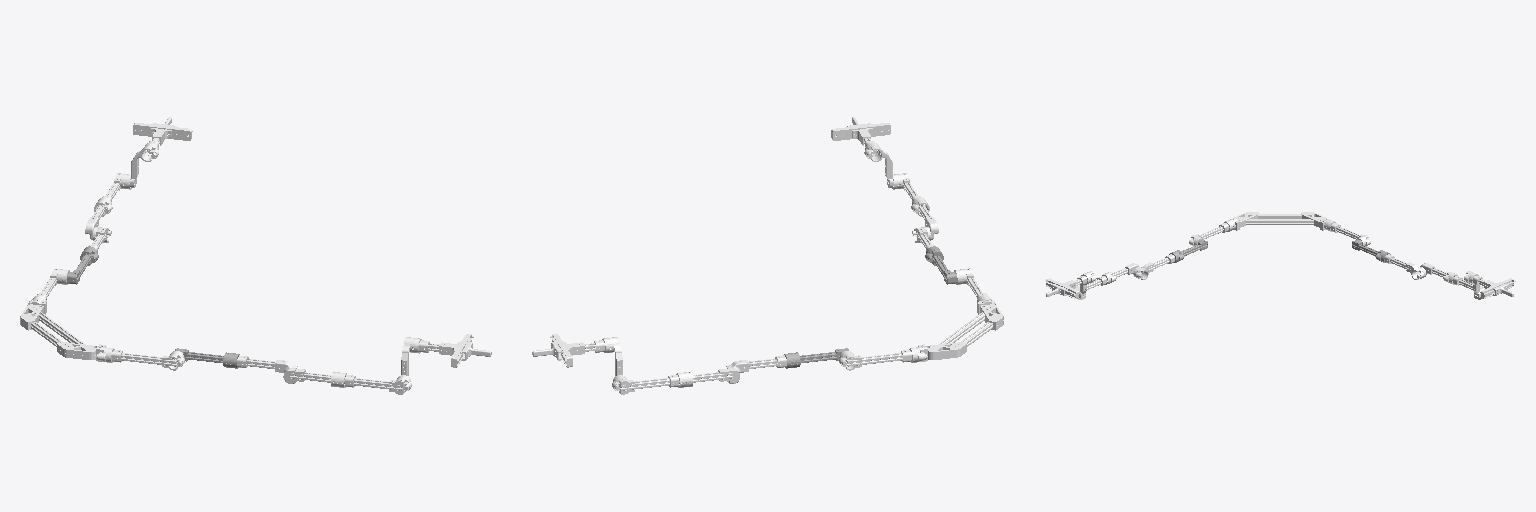
robot.urdf — airexo_stl:
<robot
  name="airexo_stl">
  <link
    name="base_link">
    <inertial>
      <origin
        xyz="0.0452487076550272 4.08159289662447E-05 2.92854896249222E-15"
        rpy="0 0 0" />
      <mass
        value="0.520332798539441" />
      <inertia
        ixx="0.00183677436681144"
        ixy="5.04249301412316E-21"
        ixz="-1.53050085454359E-18"
        iyy="0.000468584337523373"
        iyz="-3.72686805178163E-08"
        izz="0.0022412161142748" />
    </inertial>
    <visual>
      <origin
        xyz="0 0 0"
        rpy="0 0 0" />
      <geometry>
        <mesh
          filename="meshes/base_link.obj" />
      </geometry>
      <material
        name="">
        <color
          rgba="1 1 1 1" />
      </material>
    </visual>
    <collision>
      <origin
        xyz="0 0 0"
        rpy="0 0 0" />
      <geometry>
        <mesh
          filename="meshes/base_link.obj" />
      </geometry>
    </collision>
  </link>
  <link
    name="L1">
    <inertial>
      <origin
        xyz="-0.0063963952709717 -1.5515452953394E-09 -0.116903714213069"
        rpy="0 0 0" />
      <mass
        value="0.098087234411131" />
      <inertia
        ixx="0.000159372788158293"
        ixy="-3.72743176764314E-12"
        ixz="-3.43716909947373E-06"
        iyy="0.000157819875944741"
        iyz="-7.27737995086022E-12"
        izz="2.65259724028253E-05" />
    </inertial>
    <visual>
      <origin
        xyz="0 0 0"
        rpy="0 0 0" />
      <geometry>
        <mesh
          filename="meshes/L1.obj" />
      </geometry>
      <material
        name="">
        <color
          rgba="1 1 1 1" />
      </material>
    </visual>
    <collision>
      <origin
        xyz="0 0 0"
        rpy="0 0 0" />
      <geometry>
        <mesh
          filename="meshes/L1.obj" />
      </geometry>
    </collision>
  </link>
  <joint
    name="left_joint1"
    type="revolute">
    <origin
      xyz="0.109601551083906 0.244601551083923 0"
      rpy="-1.57079632679489 0 2.35619449019234" />
    <parent
      link="base_link" />
    <child
      link="L1" />
    <axis
      xyz="0 0 1" />
    <limit
      lower="0"
      upper="0"
      effort="0"
      velocity="0" />
  </joint>
  <link
    name="L2">
    <inertial>
      <origin
        xyz="0.0865759590055979 -2.81216608428411E-09 0.0186186838773504"
        rpy="0 0 0" />
      <mass
        value="0.0934596545824907" />
      <inertia
        ixx="2.5090582636752E-05"
        ixy="4.71786034627682E-12"
        ixz="-2.0777225944809E-06"
        iyy="0.000115618934339504"
        iyz="9.31258053615557E-12"
        izz="0.000117051629081509" />
    </inertial>
    <visual>
      <origin
        xyz="0 0 0"
        rpy="0 0 0" />
      <geometry>
        <mesh
          filename="meshes/L2.obj" />
      </geometry>
      <material
        name="">
        <color
          rgba="0.752941176470588 0.752941176470588 0.752941176470588 1" />
      </material>
    </visual>
    <collision>
      <origin
        xyz="0 0 0"
        rpy="0 0 0" />
      <geometry>
        <mesh
          filename="meshes/L2.obj" />
      </geometry>
    </collision>
  </link>
  <joint
    name="left_joint2"
    type="revolute">
    <origin
      xyz="-0.042 0 -0.21"
      rpy="3.1416 1.5708 0" />
    <parent
      link="L1" />
    <child
      link="L2" />
    <axis
      xyz="0 0 -1" />
    <limit
      lower="0"
      upper="0"
      effort="0"
      velocity="0" />
  </joint>
  <link
    name="L3">
    <inertial>
      <origin
        xyz="-0.00582933974923661 -0.00508234737073888 -0.110695451040566"
        rpy="0 0 0" />
      <mass
        value="0.109024564590523" />
      <inertia
        ixx="0.000109039968694576"
        ixy="-3.25831705939487E-06"
        ixz="-6.27816005953874E-06"
        iyy="9.99608985448683E-05"
        iyz="-8.47081934482583E-06"
        izz="3.42505422951305E-05" />
    </inertial>
    <visual>
      <origin
        xyz="0 0 0"
        rpy="0 0 0" />
      <geometry>
        <mesh
          filename="meshes/L3.obj" />
      </geometry>
      <material
        name="">
        <color
          rgba="1 1 1 1" />
      </material>
    </visual>
    <collision>
      <origin
        xyz="0 0 0"
        rpy="0 0 0" />
      <geometry>
        <mesh
          filename="meshes/L3.obj" />
      </geometry>
    </collision>
  </link>
  <joint
    name="left_joint3"
    type="revolute">
    <origin
      xyz="0.205000000000001 0 0.022999999999999"
      rpy="0 -1.57 0" />
    <parent
      link="L2" />
    <child
      link="L3" />
    <axis
      xyz="0 0 1" />
    <limit
      lower="0"
      upper="0"
      effort="0"
      velocity="0" />
  </joint>
  <link
    name="L4">
    <inertial>
      <origin
        xyz="-0.073172160273328 -0.017268843967896 -0.0151104097470313"
        rpy="0 0 0" />
      <mass
        value="0.110593093369985" />
      <inertia
        ixx="3.1883465683027E-05"
        ixy="-3.67151839013352E-06"
        ixz="9.31651103968059E-07"
        iyy="0.000104042250565711"
        iyz="-1.99286866179457E-06"
        izz="0.000112444733749653" />
    </inertial>
    <visual>
      <origin
        xyz="0 0 0"
        rpy="0 0 0" />
      <geometry>
        <mesh
          filename="meshes/L4.obj" />
      </geometry>
      <material
        name="">
        <color
          rgba="1 1 1 1" />
      </material>
    </visual>
    <collision>
      <origin
        xyz="0 0 0"
        rpy="0 0 0" />
      <geometry>
        <mesh
          filename="meshes/L4.obj" />
      </geometry>
    </collision>
  </link>
  <joint
    name="left_joint4"
    type="revolute">
    <origin
      xyz="-0.037 -0.02 -0.19"
      rpy="3.14 -1.5708 0" />
    <parent
      link="L3" />
    <child
      link="L4" />
    <axis
      xyz="0 0 1" />
    <limit
      lower="0"
      upper="0"
      effort="0"
      velocity="0" />
  </joint>
  <link
    name="L5">
    <inertial>
      <origin
        xyz="0.0066297740117896 1.60814885932785E-09 -0.106260647262765"
        rpy="0 0 0" />
      <mass
        value="0.0946344055188571" />
      <inertia
        ixx="0.000124669958358273"
        ixy="-3.72743175844531E-12"
        ixz="3.43716909947408E-06"
        iyy="0.000123117046144721"
        iyz="7.27737861747563E-12"
        izz="2.62344377964654E-05" />
    </inertial>
    <visual>
      <origin
        xyz="0 0 0"
        rpy="0 0 0" />
      <geometry>
        <mesh
          filename="meshes/L5.obj" />
      </geometry>
      <material
        name="">
        <color
          rgba="1 1 1 1" />
      </material>
    </visual>
    <collision>
      <origin
        xyz="0 0 0"
        rpy="0 0 0" />
      <geometry>
        <mesh
          filename="meshes/L5.obj" />
      </geometry>
    </collision>
  </link>
  <joint
    name="left_joint5"
    type="revolute">
    <origin
      xyz="-0.195 -0.0200000000000092 -0.017999999999997"
      rpy="-1.57 -1.57 -1.57" />
    <parent
      link="L4" />
    <child
      link="L5" />
    <axis
      xyz="0 0 1" />
    <limit
      lower="0"
      upper="0"
      effort="0"
      velocity="0" />
  </joint>
  <link
    name="L6">
    <inertial>
      <origin
        xyz="-0.00635824446323552 0.0689304054161675 -0.0272114386387042"
        rpy="0 0 0" />
      <mass
        value="0.0861577433675515" />
      <inertia
        ixx="0.000102772131826408"
        ixy="9.37240075961671E-06"
        ixz="-1.0212439621005E-05"
        iyy="3.77291653459946E-05"
        iyz="2.07043543003199E-05"
        izz="9.34120417799856E-05" />
    </inertial>
    <visual>
      <origin
        xyz="0 0 0"
        rpy="0 0 0" />
      <geometry>
        <mesh
          filename="meshes/L6.obj" />
      </geometry>
      <material
        name="">
        <color
          rgba="1 1 1 1" />
      </material>
    </visual>
    <collision>
      <origin
        xyz="0 0 0"
        rpy="0 0 0" />
      <geometry>
        <mesh
          filename="meshes/L6.obj" />
      </geometry>
    </collision>
  </link>
  <joint
    name="left_joint6"
    type="revolute">
    <origin
      xyz="0.0419999999999968 0 -0.190000000000001"
      rpy="0 -1.5707963267949 0" />
    <parent
      link="L5" />
    <child
      link="L6" />
    <axis
      xyz="0 0 1" />
    <limit
      lower="0"
      upper="0"
      effort="0"
      velocity="0" />
  </joint>
  <link
    name="L7">
    <inertial>
      <origin
        xyz="-3.63905949818388E-08 -0.0146045080903285 -0.107936229358862"
        rpy="0 0 0" />
      <mass
        value="0.229175051356706" />
      <inertia
        ixx="0.000233816400821421"
        ixy="-3.1371024036952E-10"
        ixz="-9.04625099533581E-11"
        iyy="0.000415342577386501"
        iyz="6.04603044528669E-06"
        izz="0.0005774292230055" />
    </inertial>
    <visual>
      <origin
        xyz="0 0 0"
        rpy="0 0 0" />
      <geometry>
        <mesh
          filename="meshes/L7_no_handle.obj" />
      </geometry>
      <material
        name="">
        <color
          rgba="1 1 1 1" />
      </material>
    </visual>
    <collision>
      <origin
        xyz="0 0 0"
        rpy="0 0 0" />
      <geometry>
        <mesh
          filename="meshes/L7_no_handle.obj" />
      </geometry>
    </collision>
  </link>
  <joint
    name="left_joint7"
    type="revolute">
    <origin
      xyz="-0.0399999999999965 0.110000000000008 -0.0579999999999996"
      rpy="0 1.5707963267949 0" />
    <parent
      link="L6" />
    <child
      link="L7" />
    <axis
      xyz="0 0 1" />
    <limit
      lower="0"
      upper="0"
      effort="0"
      velocity="0" />
  </joint>
  <link
    name="left_gripper_finger1">
    <inertial>
      <origin
        xyz="-0.00675723568499809 -0.0142134328151464 0.0298062891646284"
        rpy="0 0 0" />
      <mass
        value="0.0299322502730939" />
      <inertia
        ixx="3.69189890737347E-05"
        ixy="3.96674690314223E-06"
        ixz="-1.47009227723694E-07"
        iyy="2.46066635907428E-05"
        iyz="6.03455868750641E-06"
        izz="2.06548032566497E-05" />
    </inertial>
    <visual>
      <origin
        xyz="0 0 0"
        rpy="0 0 0" />
      <geometry>
        <mesh
          filename="meshes/LF1_no_handle.obj" />
      </geometry>
      <material
        name="">
        <color
          rgba="1 1 1 1" />
      </material>
    </visual>
    <collision>
      <origin
        xyz="0 0 0"
        rpy="0 0 0" />
      <geometry>
        <mesh
          filename="meshes/LF1_no_handle.obj" />
      </geometry>
    </collision>
  </link>
  <joint
    name="left_gripper_finger1"
    type="prismatic">
    <origin
      xyz="-0.0199999999999956 0.0164999999999835 -0.189000000000003"
      rpy="-1.57079632679489 0 3.14159265358979" />
    <parent
      link="L7" />
    <child
      link="left_gripper_finger1" />
    <axis
      xyz="-1 0 0" />
    <limit
      lower="0"
      upper="0"
      effort="0"
      velocity="0" />
  </joint>
  <link
    name="left_gripper_finger2">
    <inertial>
      <origin
        xyz="-0.0332427197047274 -0.0142133932134398 0.030258948290808"
        rpy="0 0 0" />
      <mass
        value="0.029932365698076" />
      <inertia
        ixx="3.65522546328813E-05"
        ixy="-3.96675470079069E-06"
        ixz="3.40214390720155E-07"
        iyy="2.42399516001419E-05"
        iyz="6.34951410476434E-06"
        izz="2.06548183671532E-05" />
    </inertial>
    <visual>
      <origin
        xyz="0 0 0"
        rpy="0 0 0" />
      <geometry>
        <mesh
          filename="meshes/LF2_no_handle.obj" />
      </geometry>
      <material
        name="">
        <color
          rgba="1 1 1 1" />
      </material>
    </visual>
    <collision>
      <origin
        xyz="0 0 0"
        rpy="0 0 0" />
      <geometry>
        <mesh
          filename="meshes/LF2_no_handle.obj" />
      </geometry>
    </collision>
  </link>
  <joint
    name="left_gripper_finger2"
    type="prismatic">
    <origin
      xyz="-0.0199999999999956 0.0164999999999835 -0.189000000000003"
      rpy="-1.57079632679489 0 3.14159265358979" />
    <parent
      link="L7" />
    <child
      link="left_gripper_finger2" />
    <axis
      xyz="-1 0 0" />
    <limit
      lower="0"
      upper="0"
      effort="0"
      velocity="0" />
  </joint>
  <link
    name="R1">
    <inertial>
      <origin
        xyz="0 0 0"
        rpy="0 0 0" />
      <mass
        value="0" />
      <inertia
        ixx="0"
        ixy="0"
        ixz="0"
        iyy="0"
        iyz="0"
        izz="0" />
    </inertial>
    <visual>
      <origin
        xyz="0 0 0"
        rpy="0 0 0" />
      <geometry>
        <mesh
          filename="meshes/R1.obj" />
      </geometry>
      <material
        name="">
        <color
          rgba="1 1 1 1" />
      </material>
    </visual>
    <collision>
      <origin
        xyz="0 0 0"
        rpy="0 0 0" />
      <geometry>
        <mesh
          filename="meshes/R1.obj" />
      </geometry>
    </collision>
  </link>
  <joint
    name="right_joint1"
    type="revolute">
    <origin
      xyz="0.109601551083907 -0.244601551083923 0"
      rpy="1.5707963267949 0 -2.35619449019234" />
    <parent
      link="base_link" />
    <child
      link="R1" />
    <axis
      xyz="0 0 1" />
    <limit
      lower="0"
      upper="0"
      effort="0"
      velocity="0" />
  </joint>
  <link
    name="R2">
    <inertial>
      <origin
        xyz="2.8122E-09 0.086576 0.018619"
        rpy="0 0 0" />
      <mass
        value="0.09346" />
      <inertia
        ixx="0.00011562"
        ixy="-4.7179E-12"
        ixz="-9.3126E-12"
        iyy="2.5091E-05"
        iyz="-2.0777E-06"
        izz="0.00011705" />
    </inertial>
    <visual>
      <origin
        xyz="0 0 0"
        rpy="0 0 0" />
      <geometry>
        <mesh
          filename="meshes/R2.obj" />
      </geometry>
      <material
        name="">
        <color
          rgba="0.75294 0.75294 0.75294 1" />
      </material>
    </visual>
    <collision>
      <origin
        xyz="0 0 0"
        rpy="0 0 0" />
      <geometry>
        <mesh
          filename="meshes/R2.obj" />
      </geometry>
    </collision>
  </link>
  <joint
    name="right_joint2"
    type="revolute">
    <origin
      xyz="-0.042 0 -0.21"
      rpy="-1.5708 0 1.5708" />
    <parent
      link="R1" />
    <child
      link="R2" />
    <axis
      xyz="0 0 -1" />
    <limit
      lower="0"
      upper="0"
      effort="0"
      velocity="0" />
  </joint>
  <link
    name="R3">
    <inertial>
      <origin
        xyz="-0.00582933755278403 0.00508234737744992 -0.110695440354703"
        rpy="0 0 0" />
      <mass
        value="0.109024557359642" />
      <inertia
        ixx="0.00010903996231036"
        ixy="3.25833140983821E-06"
        ixz="-6.27816463100872E-06"
        iyy="9.9960886562311E-05"
        iyz="8.47081767765234E-06"
        izz="3.42505310242744E-05" />
    </inertial>
    <visual>
      <origin
        xyz="0 0 0"
        rpy="0 0 0" />
      <geometry>
        <mesh
          filename="meshes/R3.obj" />
      </geometry>
      <material
        name="">
        <color
          rgba="1 1 1 1" />
      </material>
    </visual>
    <collision>
      <origin
        xyz="0 0 0"
        rpy="0 0 0" />
      <geometry>
        <mesh
          filename="meshes/R3.obj" />
      </geometry>
    </collision>
  </link>
  <joint
    name="right_joint3"
    type="revolute">
    <origin
      xyz="0 0.205 0.0229999999999986"
      rpy="1.57079632679481 -1.5707963267949 0" />
    <parent
      link="R2" />
    <child
      link="R3" />
    <axis
      xyz="0 0 1" />
    <limit
      lower="0"
      upper="0"
      effort="0"
      velocity="0" />
  </joint>
  <link
    name="R4">
    <inertial>
      <origin
        xyz="0.0731721799922957 0.0172688486184369 0.0151104102921951"
        rpy="0 0 0" />
      <mass
        value="0.110593062852945" />
      <inertia
        ixx="3.1883463583487E-05"
        ixy="-3.67153073687972E-06"
        ixz="9.31649960714608E-07"
        iyy="0.00010404224677379"
        iyz="-1.99285568724138E-06"
        izz="0.000112444728023625" />
    </inertial>
    <visual>
      <origin
        xyz="0 0 0"
        rpy="0 0 0" />
      <geometry>
        <mesh
          filename="meshes/R4.obj" />
      </geometry>
      <material
        name="">
        <color
          rgba="1 1 1 1" />
      </material>
    </visual>
    <collision>
      <origin
        xyz="0 0 0"
        rpy="0 0 0" />
      <geometry>
        <mesh
          filename="meshes/R4.obj" />
      </geometry>
    </collision>
  </link>
  <joint
    name="right_joint4"
    type="revolute">
    <origin
      xyz="-0.037 0.02 -0.19"
      rpy="3.1416 1.5708 0" />
    <parent
      link="R3" />
    <child
      link="R4" />
    <axis
      xyz="0 0 -1" />
    <limit
      lower="0"
      upper="0"
      effort="0"
      velocity="0" />
  </joint>
  <link
    name="R5">
    <inertial>
      <origin
        xyz="0.00662977401179365 1.60813599363219E-09 -0.106260647262767"
        rpy="0 0 0" />
      <mass
        value="0.0946344055188567" />
      <inertia
        ixx="0.000124669958358272"
        ixy="-3.72743164403169E-12"
        ixz="3.43716909947426E-06"
        iyy="0.00012311704614472"
        iyz="7.27737086740429E-12"
        izz="2.62344377964653E-05" />
    </inertial>
    <visual>
      <origin
        xyz="0 0 0"
        rpy="0 0 0" />
      <geometry>
        <mesh
          filename="meshes/R5.obj" />
      </geometry>
      <material
        name="">
        <color
          rgba="1 1 1 1" />
      </material>
    </visual>
    <collision>
      <origin
        xyz="0 0 0"
        rpy="0 0 0" />
      <geometry>
        <mesh
          filename="meshes/R5.obj" />
      </geometry>
    </collision>
  </link>
  <joint
    name="right_joint5"
    type="revolute">
    <origin
      xyz="0.194999999999998 0.0199999999999951 0.0180000000000012"
      rpy="1.6052859166587 1.57079631189374 -1.53630673693109" />
    <parent
      link="R4" />
    <child
      link="R5" />
    <axis
      xyz="0 0 1" />
    <limit
      lower="0"
      upper="0"
      effort="0"
      velocity="0" />
  </joint>
  <link
    name="R6">
    <inertial>
      <origin
        xyz="-0.00635822279867648 -0.103930168453319 -0.0272113878398762"
        rpy="0 0 0" />
      <mass
        value="0.0861571450761335" />
      <inertia
        ixx="0.000102772128030952"
        ixy="-9.37241968440688E-06"
        ixz="-1.02124433236302E-05"
        iyy="3.77292504199305E-05"
        iyz="-2.07044255384543E-05"
        izz="9.34119711680437E-05" />
    </inertial>
    <visual>
      <origin
        xyz="0 0 0"
        rpy="0 0 0" />
      <geometry>
        <mesh
          filename="meshes/R6.obj" />
      </geometry>
      <material
        name="">
        <color
          rgba="1 1 1 1" />
      </material>
    </visual>
    <collision>
      <origin
        xyz="0 0 0"
        rpy="0 0 0" />
      <geometry>
        <mesh
          filename="meshes/R6.obj" />
      </geometry>
    </collision>
  </link>
  <joint
    name="right_joint6"
    type="revolute">
    <origin
      xyz="0.0420000000000109 0 -0.190000000000004"
      rpy="0 1.5707963267949 0" />
    <parent
      link="R5" />
    <child
      link="R6" />
    <axis
      xyz="0 0 -1" />
    <limit
      lower="0"
      upper="0"
      effort="0"
      velocity="0" />
  </joint>
  <link
    name="R7">
    <inertial>
      <origin
        xyz="3.63906027534E-08 0.014604508090263 -0.107936229358866"
        rpy="0 0 0" />
      <mass
        value="0.229175051356708" />
      <inertia
        ixx="0.000233816400821424"
        ixy="-3.13710224020721E-10"
        ixz="9.04625087878408E-11"
        iyy="0.000415342577386499"
        iyz="-6.04603044526523E-06"
        izz="0.000577429223005504" />
    </inertial>
    <visual>
      <origin
        xyz="0 0 0"
        rpy="0 0 0" />
      <geometry>
        <mesh
          filename="meshes/R7_no_handle.obj" />
      </geometry>
      <material
        name="">
        <color
          rgba="1 1 1 1" />
      </material>
    </visual>
    <collision>
      <origin
        xyz="0 0 0"
        rpy="0 0 0" />
      <geometry>
        <mesh
          filename="meshes/R7_no_handle.obj" />
      </geometry>
    </collision>
  </link>
  <joint
    name="right_joint7"
    type="revolute">
    <origin
      xyz="0.039999999999996 -0.109999999999958 0.0579999999999793"
      rpy="0 -1.5707963267949 0" />
    <parent
      link="R6" />
    <child
      link="R7" />
    <axis
      xyz="0 0 1" />
    <limit
      lower="0"
      upper="0"
      effort="0"
      velocity="0" />
  </joint>
  <link
    name="right_gripper_finger1">
    <inertial>
      <origin
        xyz="-0.00675723568499398 -0.0142134328151422 0.0298062891646398"
        rpy="0 0 0" />
      <mass
        value="0.029932250273094" />
      <inertia
        ixx="3.69189890737345E-05"
        ixy="3.96674690314262E-06"
        ixz="-1.47009227725744E-07"
        iyy="2.46066635907442E-05"
        iyz="6.03455868750575E-06"
        izz="2.06548032566481E-05" />
    </inertial>
    <visual>
      <origin
        xyz="0 0 0"
        rpy="0 0 0" />
      <geometry>
        <mesh
          filename="meshes/RF1_no_handle.obj" />
      </geometry>
      <material
        name="">
        <color
          rgba="1 1 1 1" />
      </material>
    </visual>
    <collision>
      <origin
        xyz="0 0 0"
        rpy="0 0 0" />
      <geometry>
        <mesh
          filename="meshes/RF1_no_handle.obj" />
      </geometry>
    </collision>
  </link>
  <joint
    name="right_gripper_finger1"
    type="prismatic">
    <origin
      xyz="0.0200000000000005 -0.0165000000000805 -0.189000000000002"
      rpy="-1.57079632679492 0 0" />
    <parent
      link="R7" />
    <child
      link="right_gripper_finger1" />
    <axis
      xyz="1 0 0" />
    <limit
      lower="0"
      upper="0"
      effort="0"
      velocity="0" />
  </joint>
  <link
    name="right_gripper_finger2">
    <inertial>
      <origin
        xyz="-0.0332427197047234 -0.0142133932134356 0.030258948290822"
        rpy="0 0 0" />
      <mass
        value="0.0299323656980758" />
      <inertia
        ixx="3.6552254632881E-05"
        ixy="-3.96675470079006E-06"
        ixz="3.40214390719059E-07"
        iyy="2.42399516001434E-05"
        iyz="6.34951410476458E-06"
        izz="2.06548183671514E-05" />
    </inertial>
    <visual>
      <origin
        xyz="0 0 0"
        rpy="0 0 0" />
      <geometry>
        <mesh
          filename="meshes/RF2_no_handle.obj" />
      </geometry>
      <material
        name="">
        <color
          rgba="1 1 1 1" />
      </material>
    </visual>
    <collision>
      <origin
        xyz="0 0 0"
        rpy="0 0 0" />
      <geometry>
        <mesh
          filename="meshes/RF2_no_handle.obj" />
      </geometry>
    </collision>
  </link>
  <joint
    name="right_gripper_finger2"
    type="prismatic">
    <origin
      xyz="0.0200000000000005 -0.0165000000000805 -0.189000000000002"
      rpy="-1.57079632679492 0 0" />
    <parent
      link="R7" />
    <child
      link="right_gripper_finger2" />
    <axis
      xyz="1 0 0" />
    <limit
      lower="0"
      upper="0"
      effort="0"
      velocity="0" />
  </joint>
</robot>

--- Facts derived from the render (not from the file) ---
3 views of the same robot in one strip: view 1: azimuth 30°, elevation 25°; view 2: azimuth 150°, elevation 25°; view 3: azimuth 270°, elevation 25° (orthographic).
Robot: airexo_stl — 19 links, 18 joints (14 revolute, 4 prismatic); root link base_link; default pose: all joints at 0.
Visible links, largest first — view 1: base_link, L7, R1, R5, R4, R7, R2, R3; view 2: base_link, R7, L1, L5, L4, L7, L2, L3; view 3: base_link.
Boxes of the visible links, x1,y1,x2,y2 form: base_link: (20,295,114,362); L7: (133,123,192,153); R1: (112,350,184,370); R5: (344,375,411,394); R4: (283,368,346,387); R7: (419,334,473,367); R2: (172,348,239,368); R3: (237,355,297,383); base_link: (909,295,1003,362); R7: (831,123,890,153); L1: (839,350,911,370); L5: (612,375,679,394); L4: (676,368,739,387); L7: (550,334,604,367); L2: (784,348,850,368); L3: (726,355,786,383); base_link: (1224,212,1335,231).
Size in the robot's own frame: 1.12 by 2.16 by 0.1803 metres.
Meshes: 19 distinct files referenced, 19 mesh visuals loaded (19 OBJ).
